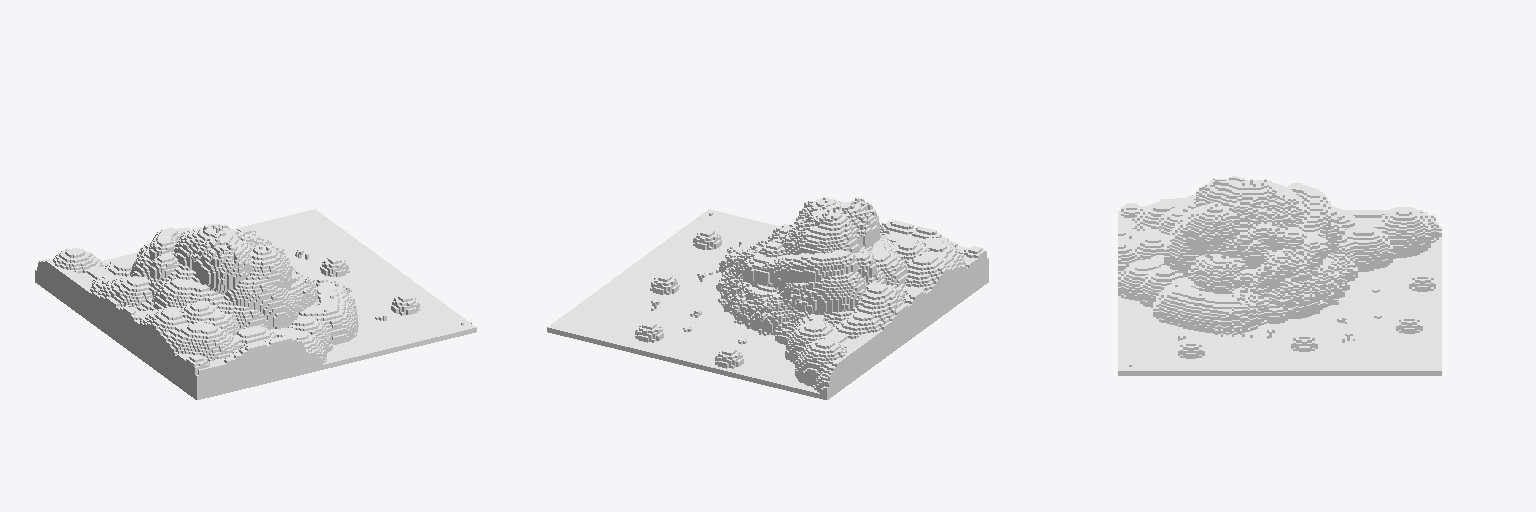
The model's file is town_model-12.obj.
3 views of the same model, side by side, from view 1: azimuth 30°, elevation 25°; view 2: azimuth 150°, elevation 25°; view 3: azimuth 270°, elevation 25° (orthographic).
Visible parts, largest first — view 1: town_model-12; view 2: town_model-12; view 3: town_model-12.
Part boxes in pixels (bbox=[...]): town_model-12: bbox=[35, 209, 476, 399]; town_model-12: bbox=[547, 197, 988, 399]; town_model-12: bbox=[1118, 176, 1441, 375].
Size of the model in its own units: 120 by 42 by 120.